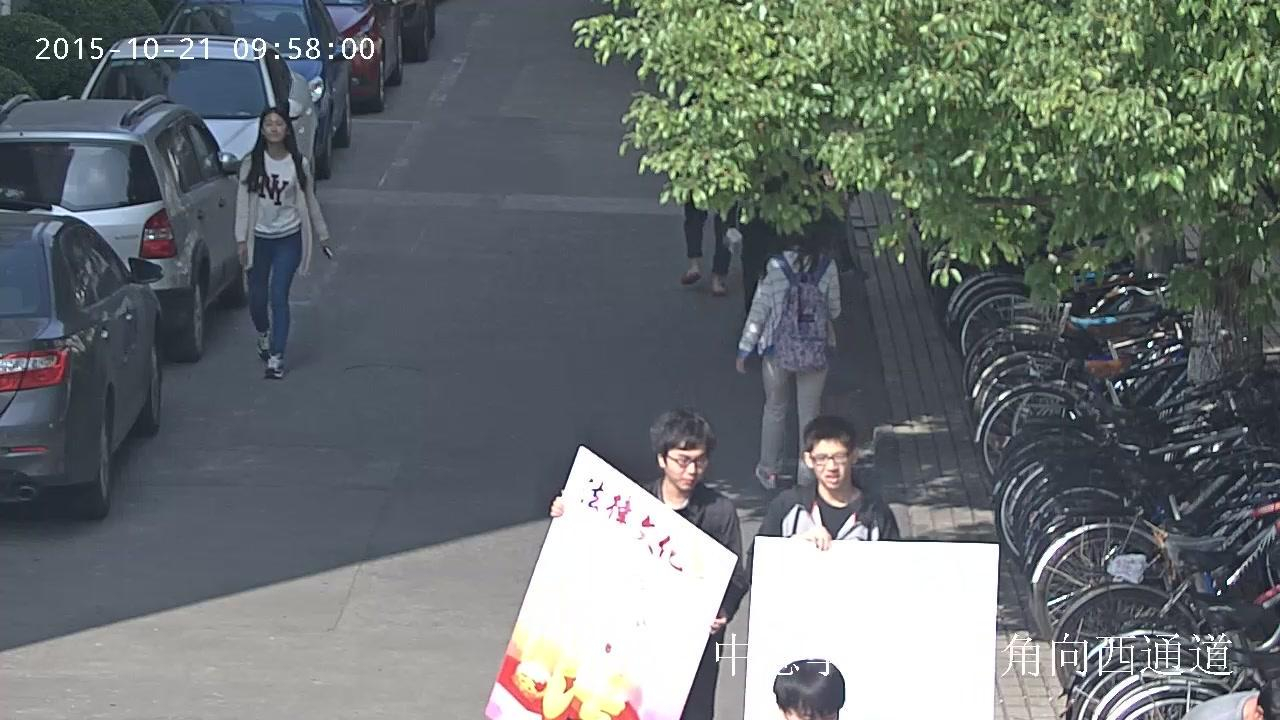face: (665, 441, 707, 490), (812, 438, 851, 490), (791, 700, 838, 720), (263, 112, 286, 141)
